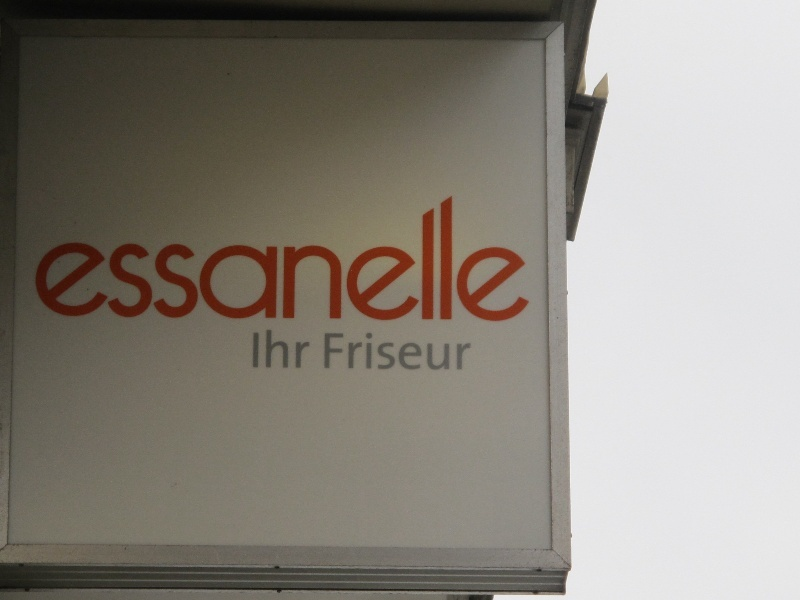text: (49, 190, 64, 325), (65, 190, 80, 325), (81, 190, 96, 325), (97, 190, 112, 325), (113, 190, 128, 325), (129, 190, 144, 325), (145, 190, 160, 325), (161, 190, 176, 325), (177, 190, 192, 325), (193, 190, 208, 325), (209, 190, 224, 325), (225, 190, 240, 325), (241, 190, 256, 325), (257, 190, 272, 325), (273, 190, 288, 325), (289, 190, 304, 325), (305, 190, 320, 325), (321, 190, 336, 325), (337, 190, 352, 325), (353, 190, 368, 325), (369, 190, 384, 325), (385, 190, 400, 325), (401, 190, 416, 325), (417, 190, 432, 325), (433, 190, 448, 325), (449, 190, 464, 325), (465, 190, 480, 325), (481, 190, 496, 325), (497, 190, 512, 325), (513, 190, 528, 325), (35, 190, 48, 325), (257, 329, 272, 370), (273, 329, 288, 370), (289, 329, 304, 370), (337, 332, 352, 371), (353, 332, 368, 371), (369, 332, 384, 371), (385, 332, 400, 371), (401, 332, 416, 371), (417, 332, 432, 371), (433, 332, 448, 371), (449, 332, 464, 371), (324, 332, 336, 371), (529, 190, 532, 325), (465, 332, 473, 371), (305, 329, 312, 370), (252, 329, 256, 370)
